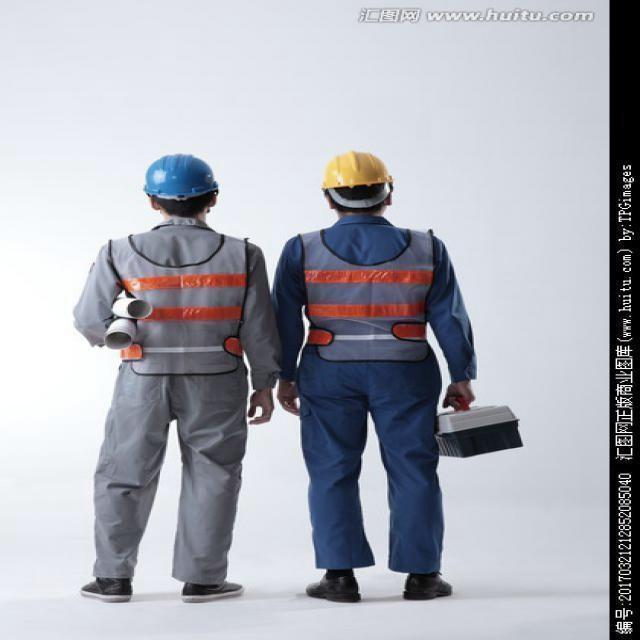10: (65, 122, 280, 612), (266, 136, 482, 610)
11: (102, 223, 256, 382), (291, 218, 445, 371)
2: (140, 151, 220, 227), (322, 149, 395, 222)
7: (244, 384, 274, 426), (277, 377, 304, 418), (445, 379, 478, 411)
helmet_white: (298, 559, 372, 609), (174, 566, 254, 610), (73, 571, 142, 610), (398, 566, 461, 606)
